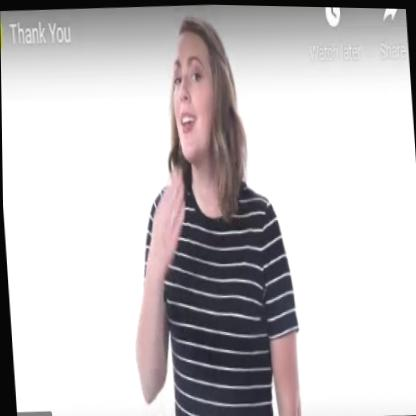ThankYou: (123, 2, 247, 292)
